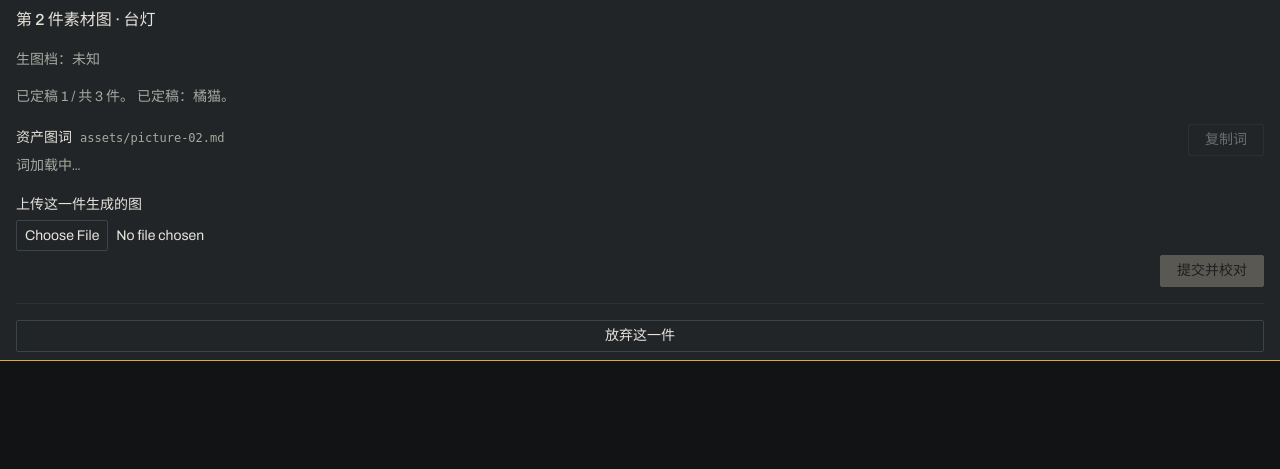
AssetImageCard 放弃这一件 › 放弃失败时显示后端文案，不伪装成功
Click the button "放弃这一件" at (640, 336), box [16,320,1264,352]
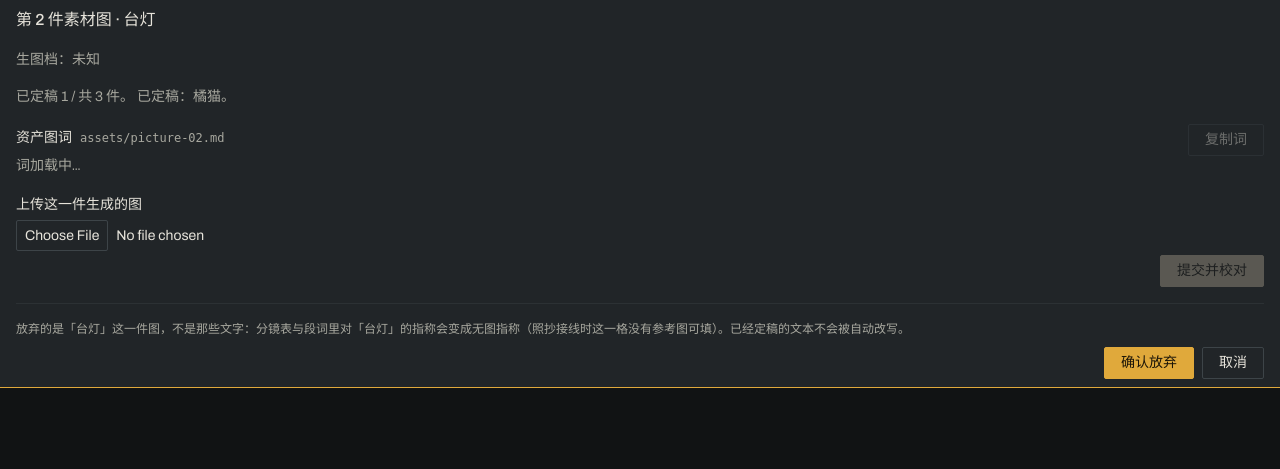
Click the button "确认放弃" at (1149, 363), box [1104,347,1194,379]
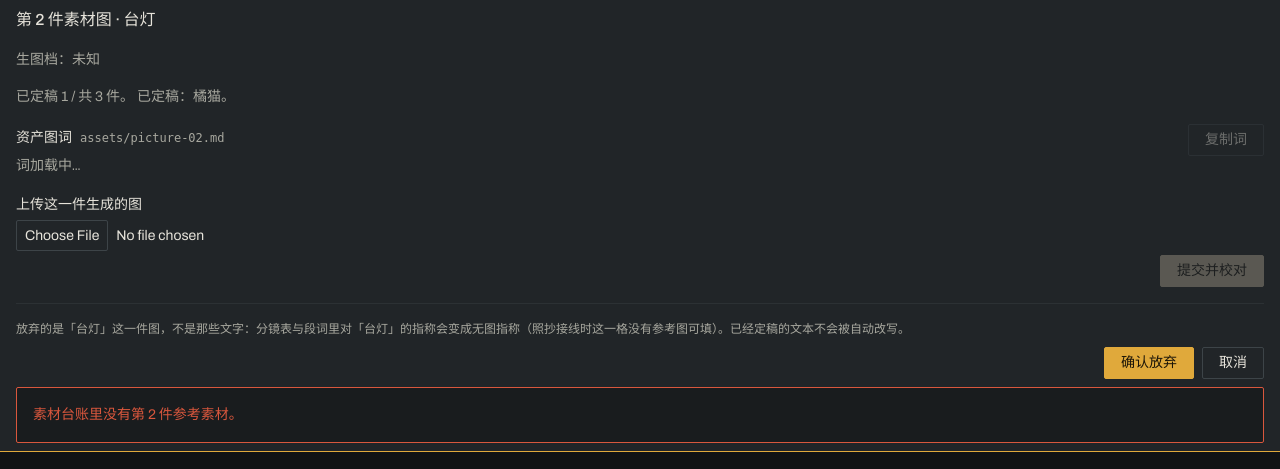
Check: the text "素材台账里没有第 2 件参考素材。" is shown, box [33,407,243,422]
